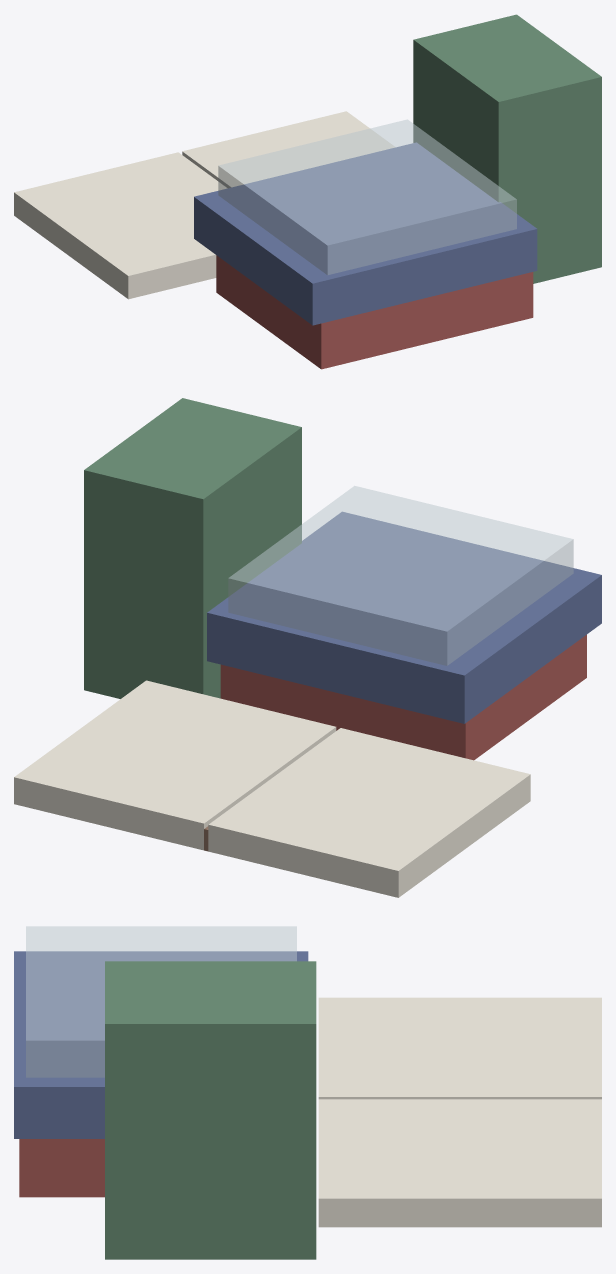
Rendered from placeholder.glb.
The picture shows the model from 3 angles, top to bottom: view 1: azimuth 30°, elevation 25°; view 2: azimuth 150°, elevation 25°; view 3: azimuth 270°, elevation 25°; orthographic projection. The views are drawn at different scales.
Parts seen in each view (by area): view 1: Book_3, Book_2, Magnifier, Open_book_recto, Book_1, Open_book_verso; view 2: Book_3, Book_2, Magnifier, Open_book_recto, Open_book_verso, Book_1; view 3: Book_2, Open_book_verso, Open_book_recto, Book_3, Magnifier, Book_1.
Part boxes in pixels (x1,y1,x2,y2): Book_3: (194, 142, 537, 325); Book_2: (413, 14, 601, 283); Magnifier: (218, 119, 516, 274); Open_book_recto: (14, 152, 227, 299); Book_1: (216, 255, 533, 369); Open_book_verso: (182, 111, 395, 188); Book_3: (207, 511, 601, 723); Book_2: (84, 398, 301, 698); Magnifier: (228, 486, 573, 665); Open_book_recto: (208, 728, 530, 897); Open_book_verso: (14, 680, 336, 850); Book_1: (220, 634, 586, 760); Book_2: (105, 961, 316, 1259); Open_book_verso: (318, 1099, 601, 1227); Open_book_recto: (318, 997, 601, 1099); Book_3: (14, 951, 308, 1138); Magnifier: (26, 926, 296, 1077); Book_1: (19, 1139, 104, 1197).
Size of the model in its own units: 0.4091 by 0.1928 by 0.4341.
